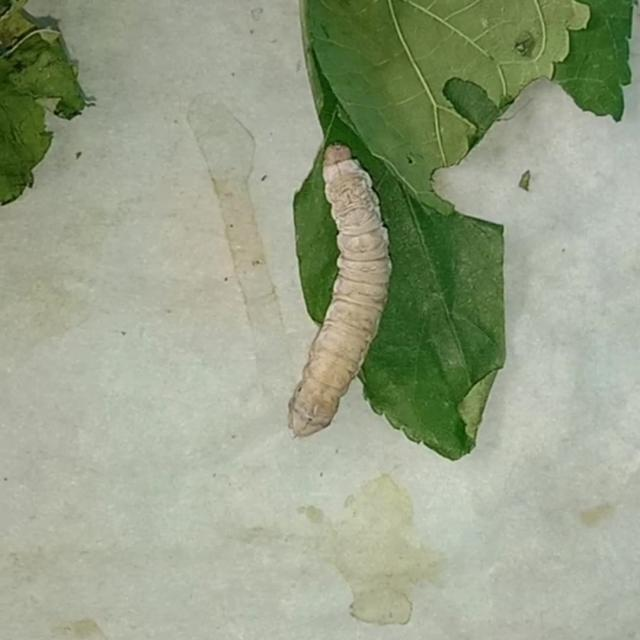Grasserie: (280, 136, 416, 444)
